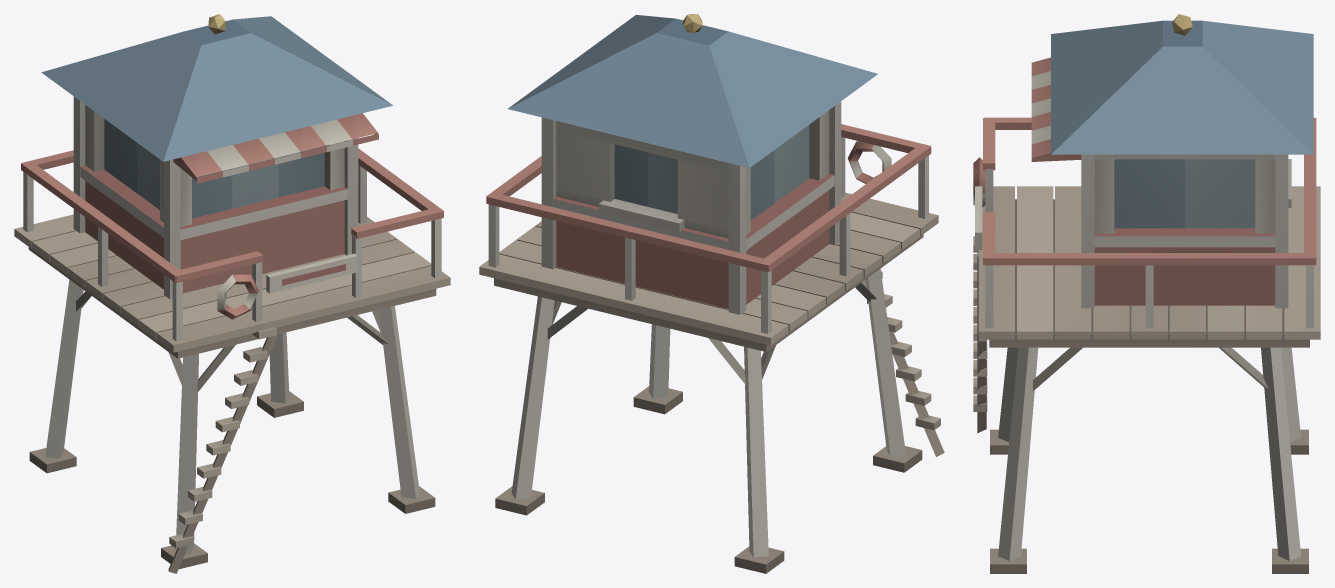
File: tower.lod1.glb
The picture shows the model from 3 angles, left to right: view 1: azimuth 30°, elevation 25°; view 2: azimuth 150°, elevation 25°; view 3: azimuth 270°, elevation 25°; orthographic projection. The views are drawn at different scales.
Bounding box in the file's own units: 3.97 × 6.15 × 3.94.
